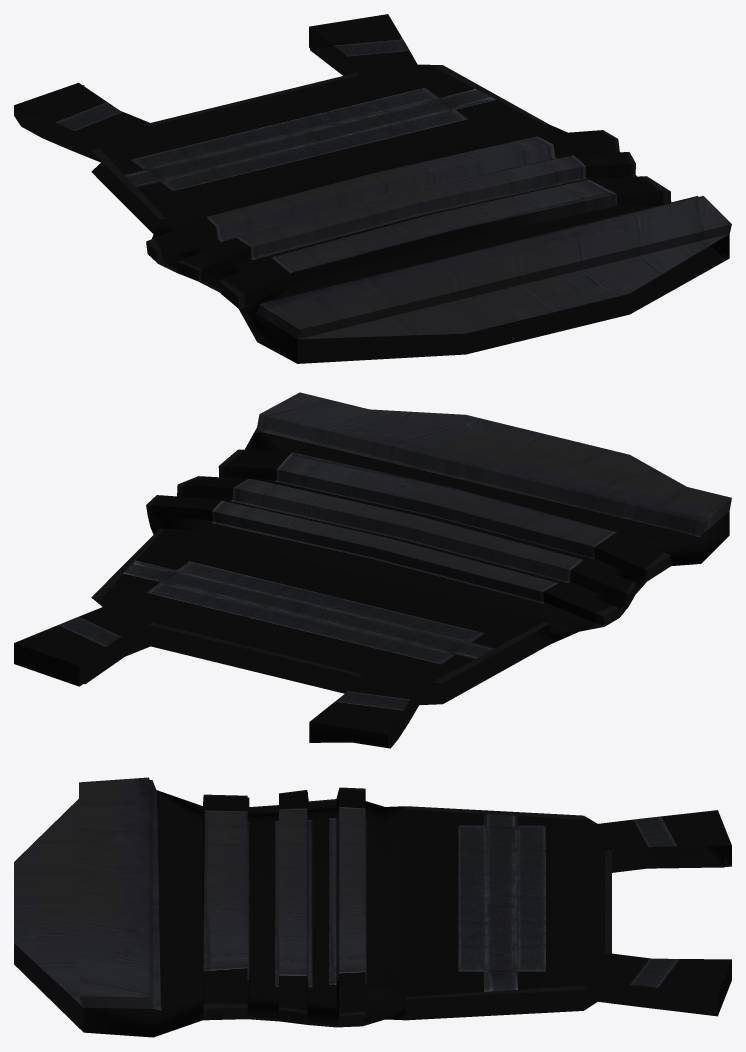
Rendered from bulletproof vest.FBX.
3 views of the same model, one above another, from view 1: azimuth 30°, elevation 25°; view 2: azimuth 150°, elevation 25°; view 3: azimuth 270°, elevation 25° (orthographic).
Parts seen in each view (by area): view 1: bulletproof vest; view 2: bulletproof vest; view 3: bulletproof vest.
Part boxes in pixels (x1,y1,x2,y2): bulletproof vest: (14, 14, 731, 363); bulletproof vest: (14, 392, 731, 748); bulletproof vest: (14, 777, 731, 1037).
Size of the model in its own units: 30.25 by 2.48 by 40.18.
